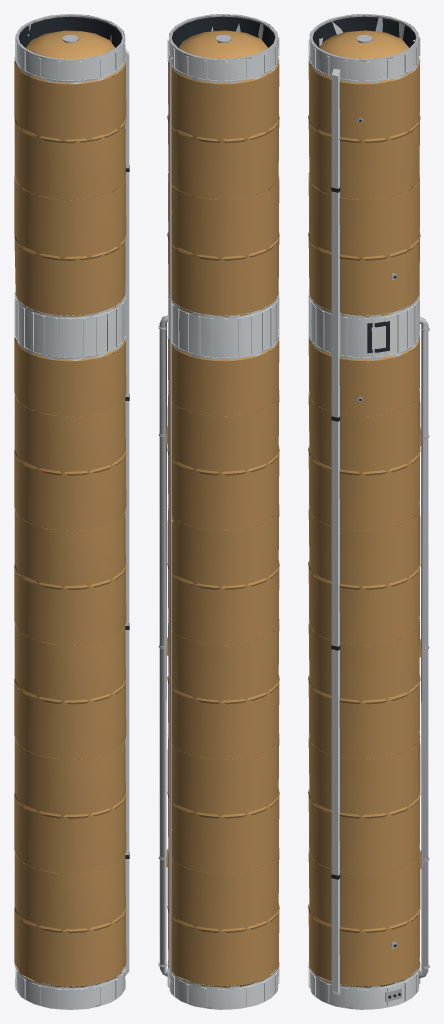
File: tank_s1_s_hydrolox.glb
The picture shows the model from 3 angles, left to right: view 1: azimuth 90°, elevation 25°; view 2: azimuth 150°, elevation 25°; view 3: azimuth 330°, elevation 25°; orthographic projection.
Parts seen in each view (by area): view 1: tank_s1_s_hydrolox_mesh; view 2: tank_s1_s_hydrolox_mesh; view 3: tank_s1_s_hydrolox_mesh.
Part boxes in pixels (x1,y1,x2,y2): tank_s1_s_hydrolox_mesh: [14, 14, 129, 1009]; tank_s1_s_hydrolox_mesh: [158, 14, 279, 1009]; tank_s1_s_hydrolox_mesh: [308, 14, 429, 1009].
Size of the model in its own units: 3.87 by 35.3 by 3.89.
